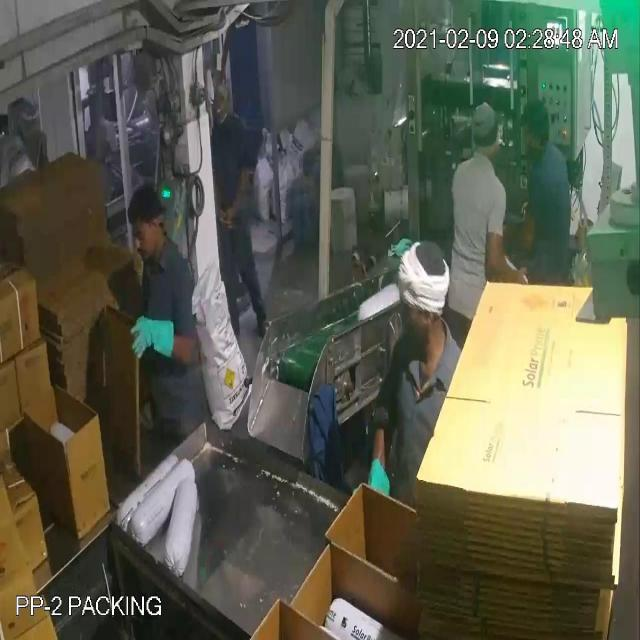Gloves: (34, 62, 507, 340)
